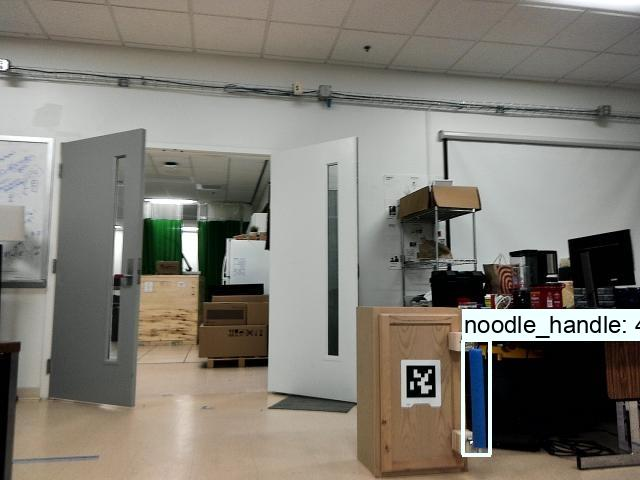noodle_handle: (464, 340, 488, 452)
